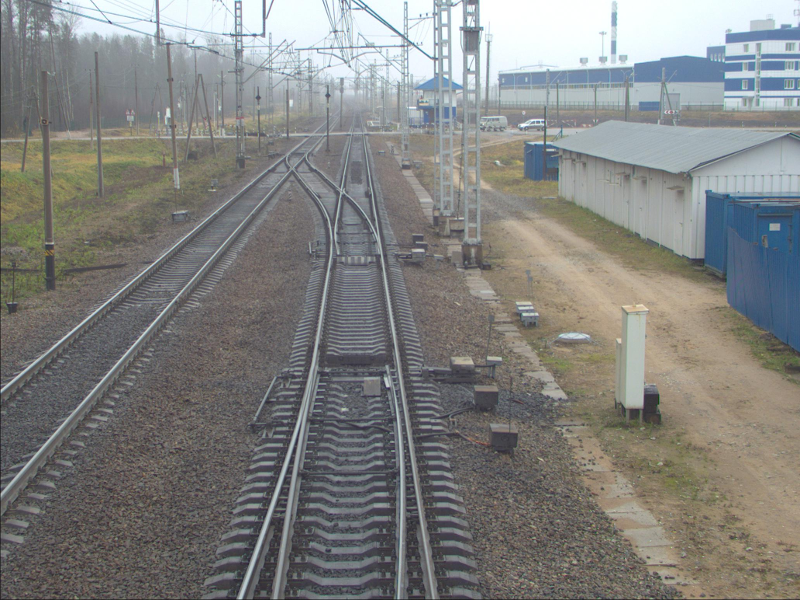left: (328, 231, 386, 257)
